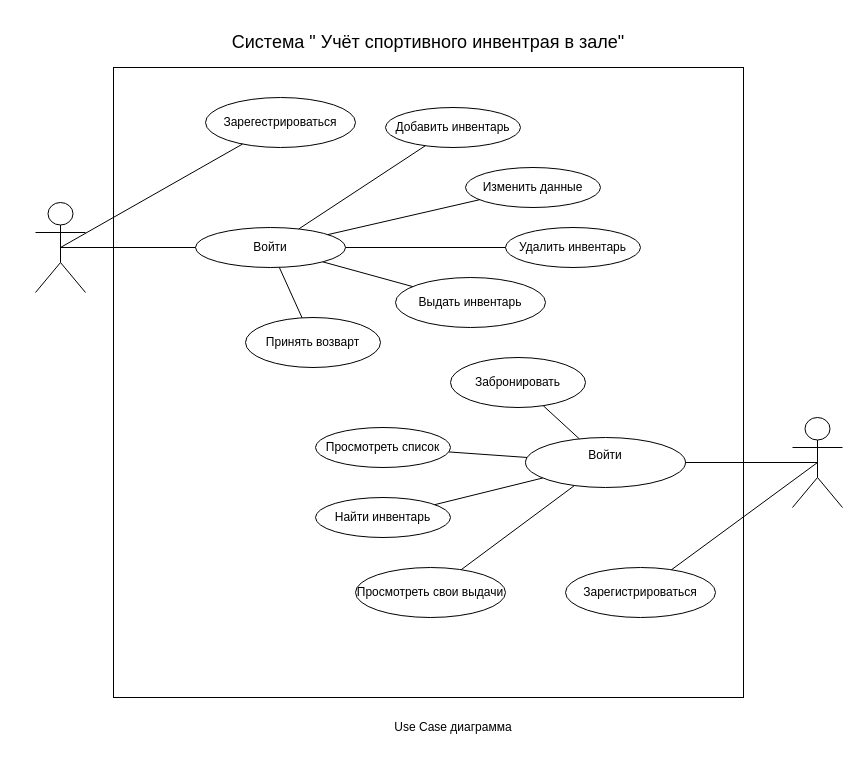
Some shapes in this 865 by 764 pixel diagram are drawn without their labels. Here are the shapes that lost their labels. From the top down, the box of each, then its label:
(34, 202, 86, 292): Администратор
(792, 416, 842, 508): Спортсмен
